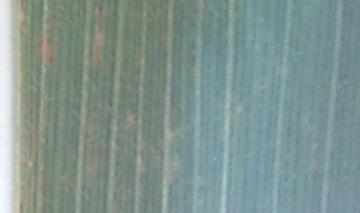tarspot: (18, 200, 25, 213), (110, 10, 118, 19), (98, 4, 104, 16)
